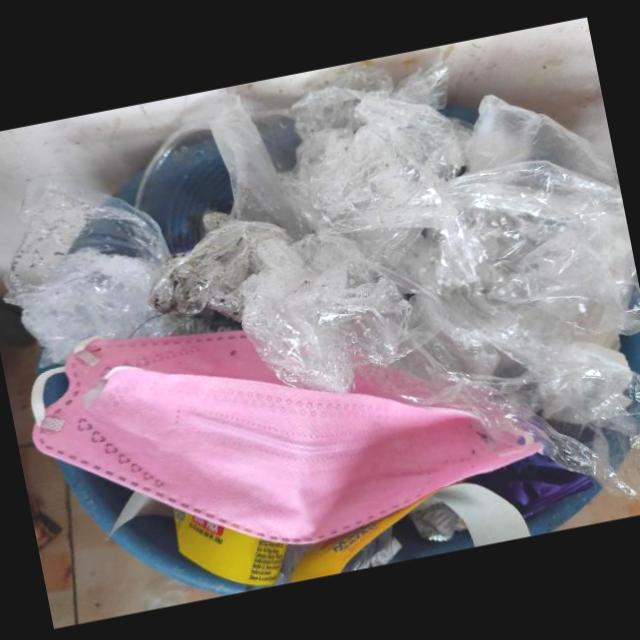khau_trang: (31, 330, 550, 545)
tui_ni_long: (148, 66, 640, 499), (4, 184, 242, 377)
